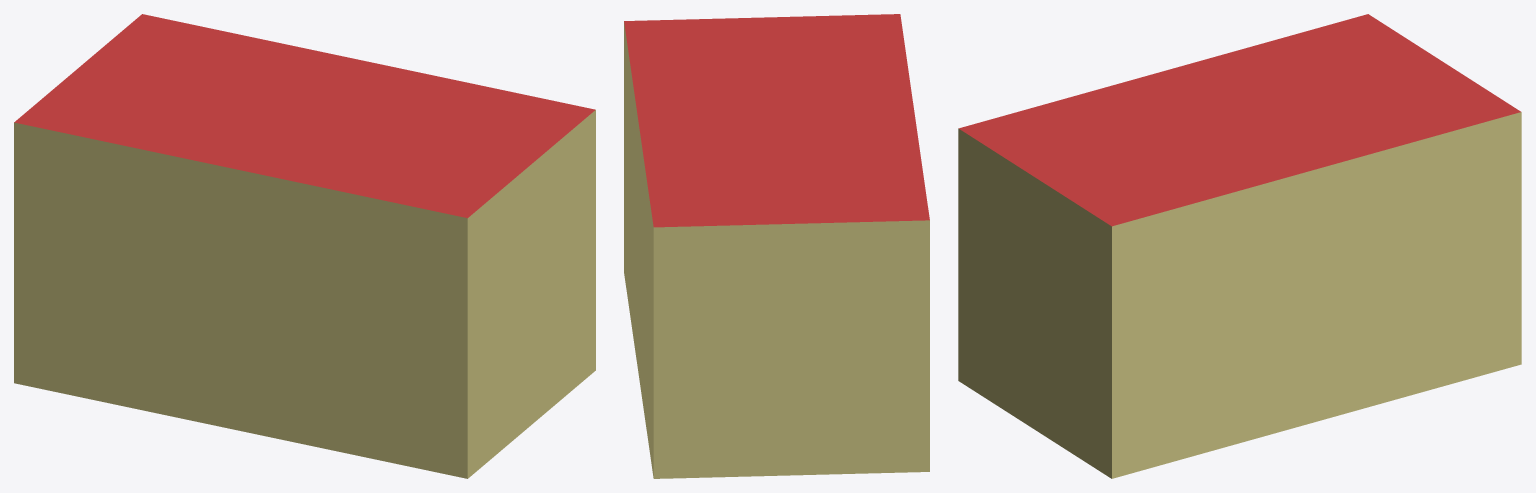
3 views of the same model, side by side, from view 1: azimuth 30°, elevation 25°; view 2: azimuth 150°, elevation 25°; view 3: azimuth 270°, elevation 25° (orthographic). The views are drawn at different scales.
Bounding box in the file's own units: 12.71 × 14.24 × 7.05.
